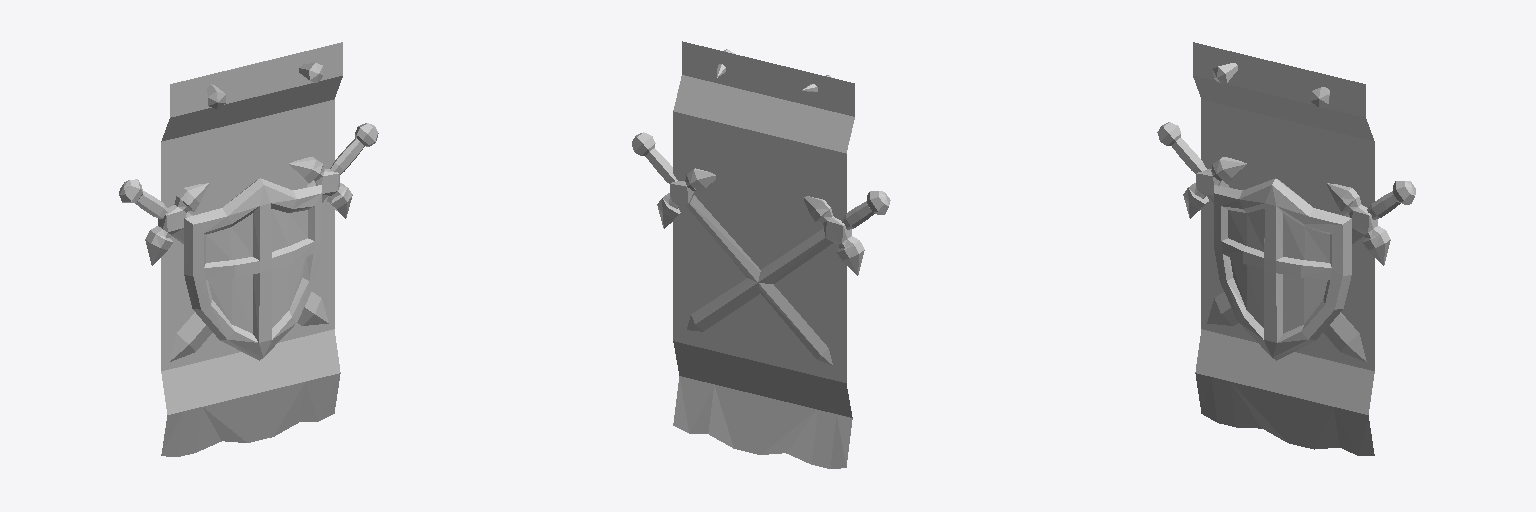
The model's file is banner_shield_white.obj.
The picture shows the model from 3 angles: view 1: azimuth 30°, elevation 25°; view 2: azimuth 150°, elevation 25°; view 3: azimuth 330°, elevation 25°; orthographic projection.
Visible parts, largest first — view 1: banner_shield_white; view 2: banner_shield_white; view 3: banner_shield_white.
Boxes of the visible parts, x1=… form: banner_shield_white: x1=119, y1=42, x2=378, y2=456; banner_shield_white: x1=632, y1=41, x2=890, y2=468; banner_shield_white: x1=1157, y1=42, x2=1415, y2=455.
Size of the model in its own units: 2.23 by 3.2 by 0.3741.